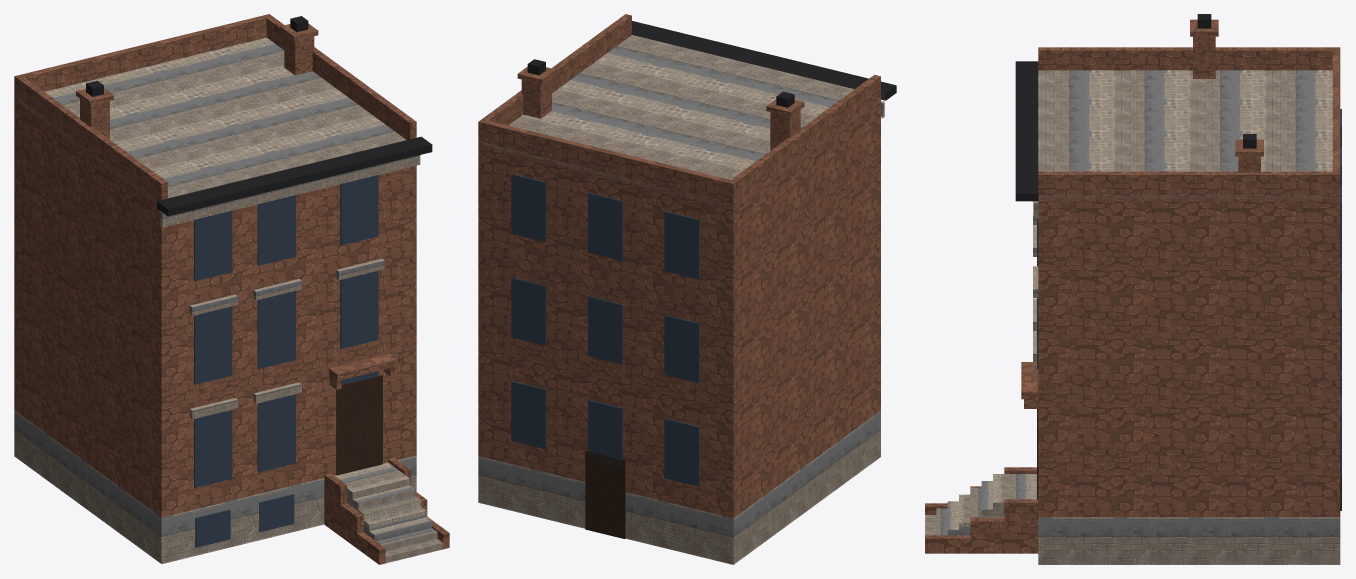
The model's file is brownstone.glb.
The picture shows the model from 3 angles, left to right: view 1: azimuth 30°, elevation 25°; view 2: azimuth 150°, elevation 25°; view 3: azimuth 270°, elevation 25°; orthographic projection. The views are drawn at different scales.
Parts seen in each view (by area): view 1: brownstone; view 2: brownstone; view 3: brownstone.
Boxes of the visible parts, x1=… form: brownstone: x1=14, y1=14, x2=449, y2=564; brownstone: x1=478, y1=14, x2=896, y2=564; brownstone: x1=925, y1=14, x2=1341, y2=564.
Size of the model in its own units: 8.3 by 12.5 by 11.04.
5 materials, 3 textured.
